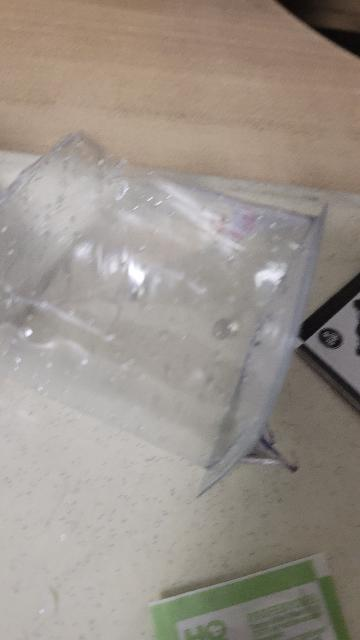Plastik: (0, 130, 333, 489)
